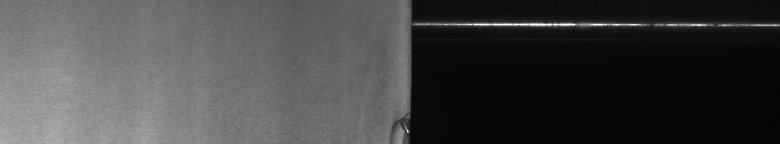hb: (384, 108, 400, 136)
